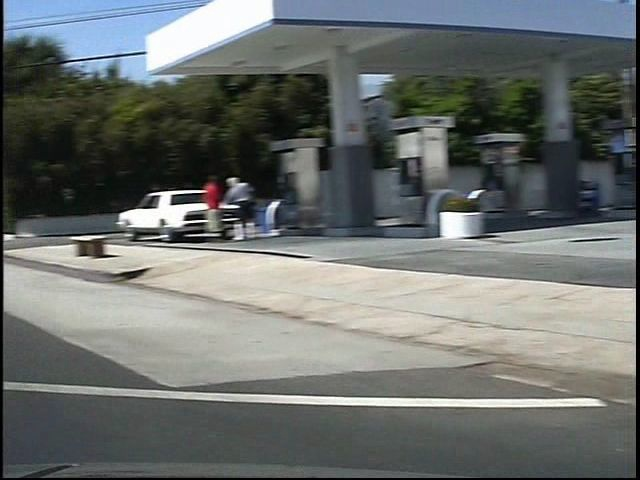person: (200, 171, 239, 243), (178, 171, 204, 244)
